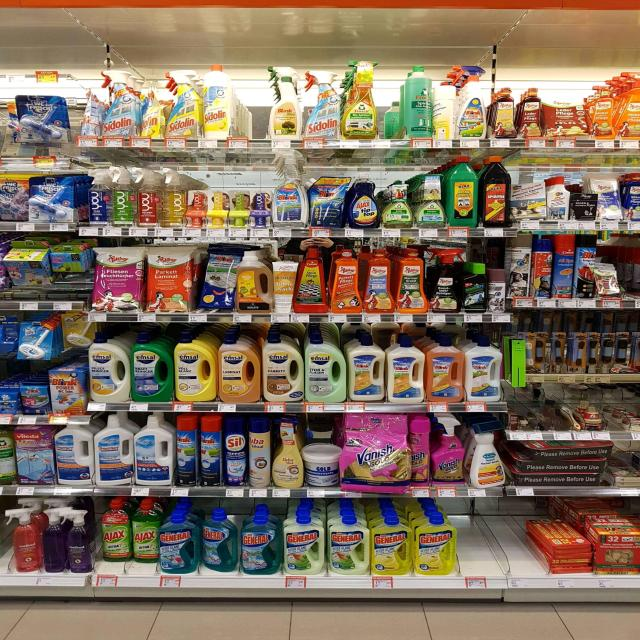empty_space: (501, 507, 539, 569), (462, 503, 489, 570), (238, 79, 265, 138)
